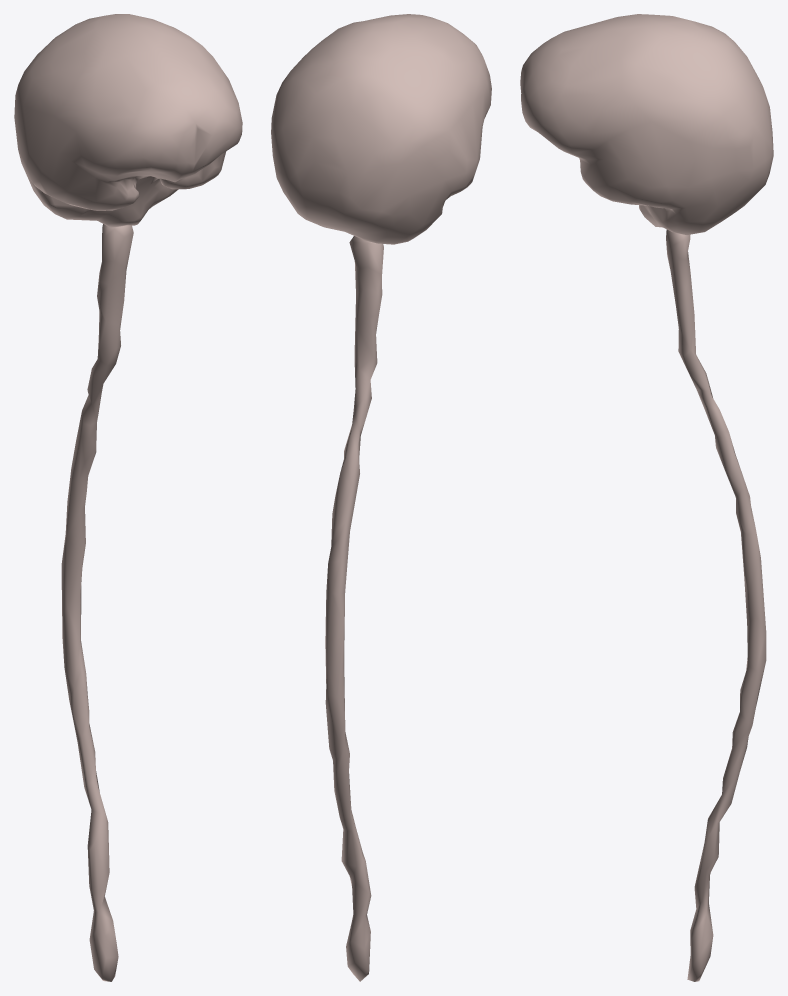
File: pediatric_adolescent_female.nervous.LOD1.glb
The picture shows the model from 3 angles, left to right: view 1: azimuth 30°, elevation 25°; view 2: azimuth 150°, elevation 25°; view 3: azimuth 270°, elevation 25°; orthographic projection. The views are drawn at different scales.
Visible parts, largest first — view 1: PEDIATRIC.ADOLESCENT.FEMALE.NERVOUS.BRAIN, PEDIATRIC.ADOLESCENT.FEMALE.NERVOUS.SPINAL_CORD; view 2: PEDIATRIC.ADOLESCENT.FEMALE.NERVOUS.BRAIN, PEDIATRIC.ADOLESCENT.FEMALE.NERVOUS.SPINAL_CORD; view 3: PEDIATRIC.ADOLESCENT.FEMALE.NERVOUS.BRAIN, PEDIATRIC.ADOLESCENT.FEMALE.NERVOUS.SPINAL_CORD.
Boxes of the visible parts, x1=… form: PEDIATRIC.ADOLESCENT.FEMALE.NERVOUS.BRAIN: x1=14, y1=14, x2=242, y2=227; PEDIATRIC.ADOLESCENT.FEMALE.NERVOUS.SPINAL_CORD: x1=61, y1=224, x2=133, y2=981; PEDIATRIC.ADOLESCENT.FEMALE.NERVOUS.BRAIN: x1=271, y1=14, x2=491, y2=244; PEDIATRIC.ADOLESCENT.FEMALE.NERVOUS.SPINAL_CORD: x1=325, y1=236, x2=383, y2=981; PEDIATRIC.ADOLESCENT.FEMALE.NERVOUS.BRAIN: x1=520, y1=14, x2=773, y2=234; PEDIATRIC.ADOLESCENT.FEMALE.NERVOUS.SPINAL_CORD: x1=666, y1=229, x2=766, y2=981.
Bounding box in the file's own units: 0.1312 × 0.6526 × 0.1561.
